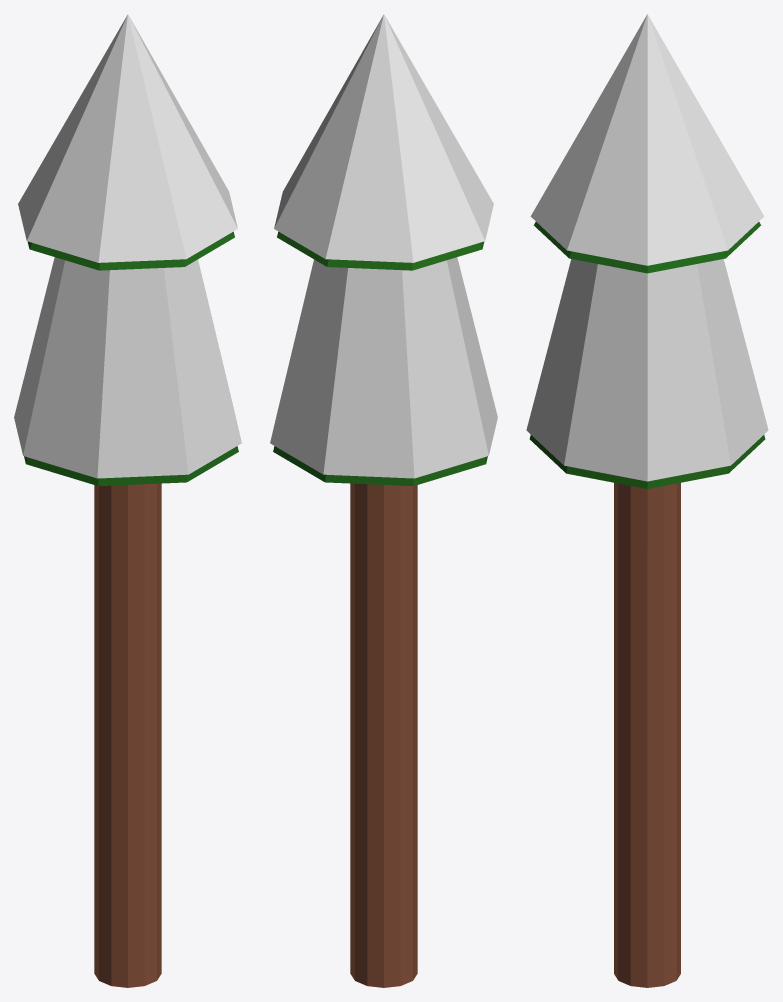
Rendered from Tree_21_winter.fbx.
3 renders of one model, left to right at view 1: azimuth 30°, elevation 25°; view 2: azimuth 150°, elevation 25°; view 3: azimuth 270°, elevation 25°, orthographic.
Parts seen in each view (by area): view 1: Tree_21_winter; view 2: Tree_21_winter; view 3: Tree_21_winter.
Boxes of the visible parts, x1,y1,x2,y2 form: Tree_21_winter: (14, 14, 241, 987); Tree_21_winter: (270, 14, 497, 987); Tree_21_winter: (526, 14, 768, 987).
Bounding box in the file's own units: 80.03 × 350 × 80.03.
